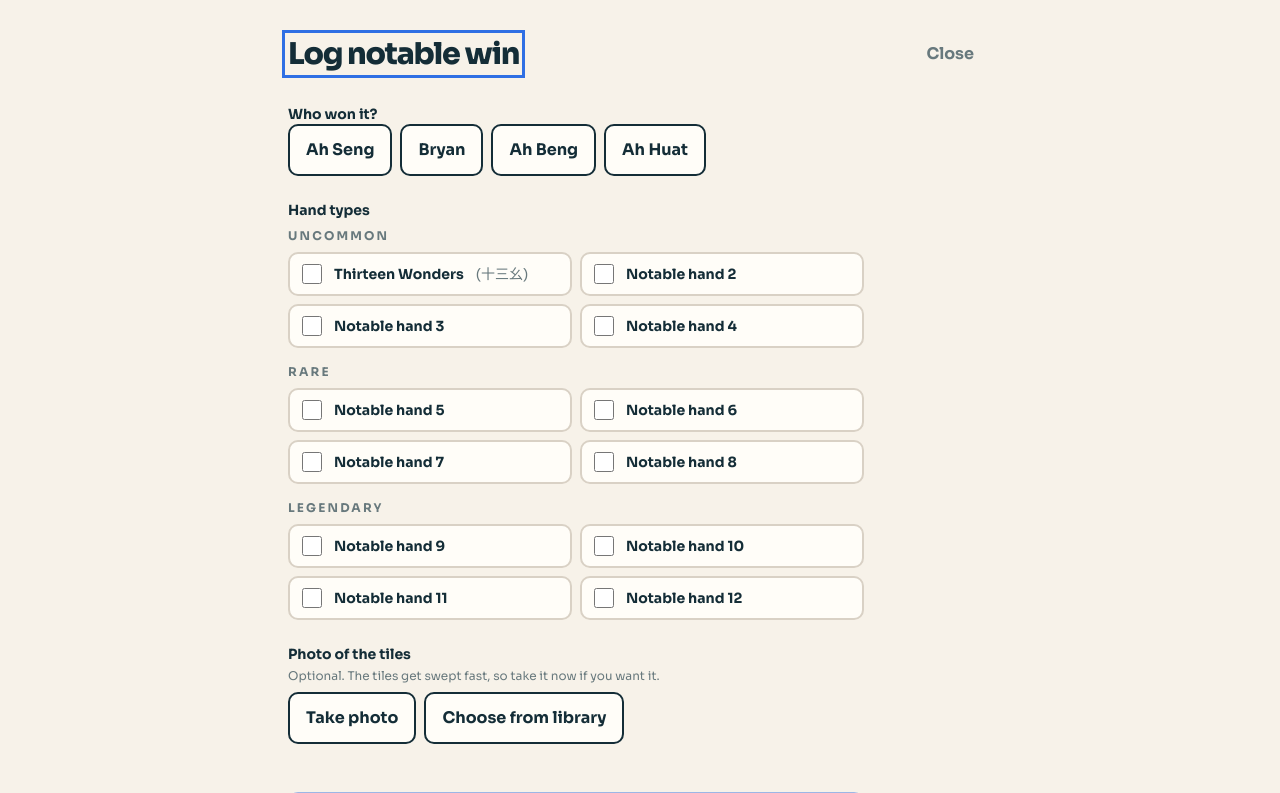
Test: NotableLogger › keeps the exact selected hand types and restores the action after a rejected request
Step 1. Click the button "Bryan" → click(442, 150), box [400, 124, 483, 176]
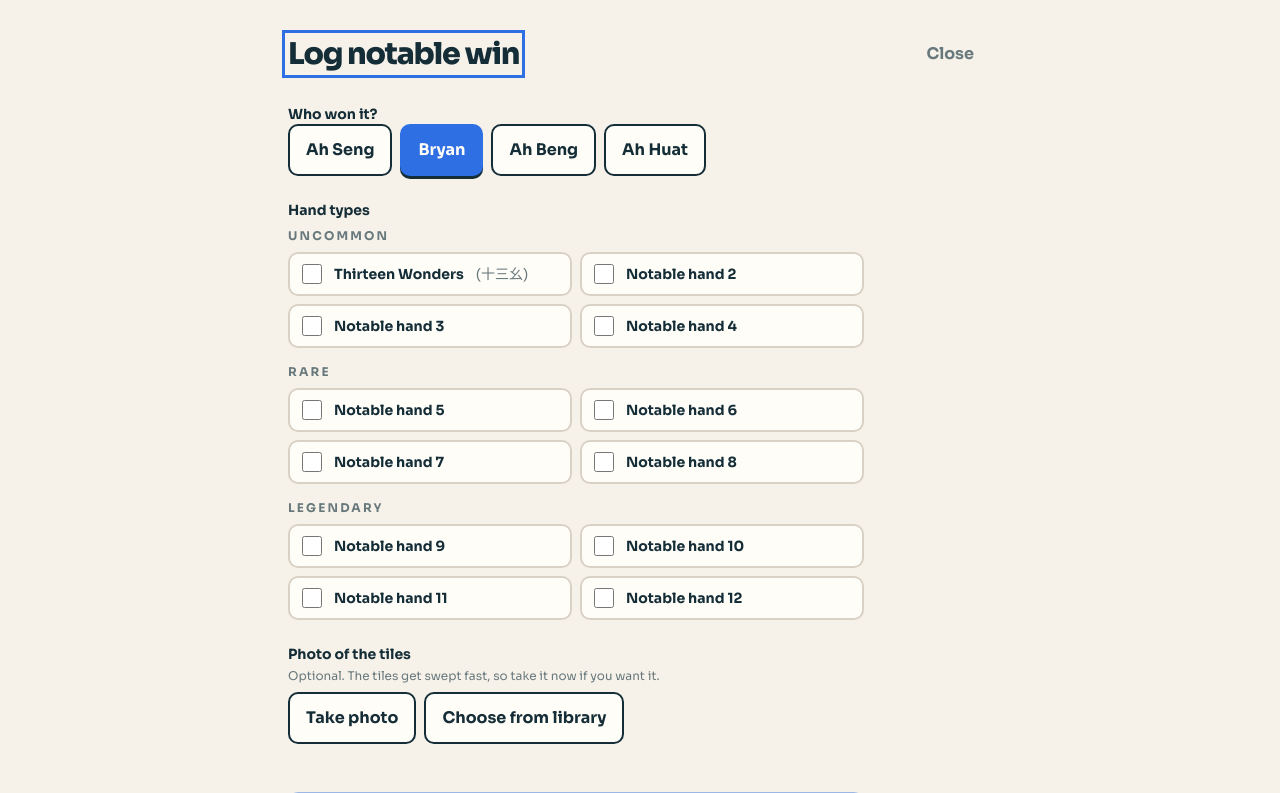
Step 2. Click the checkbox labelled "Thirteen Wonders" → click(312, 274), box [302, 264, 322, 284]
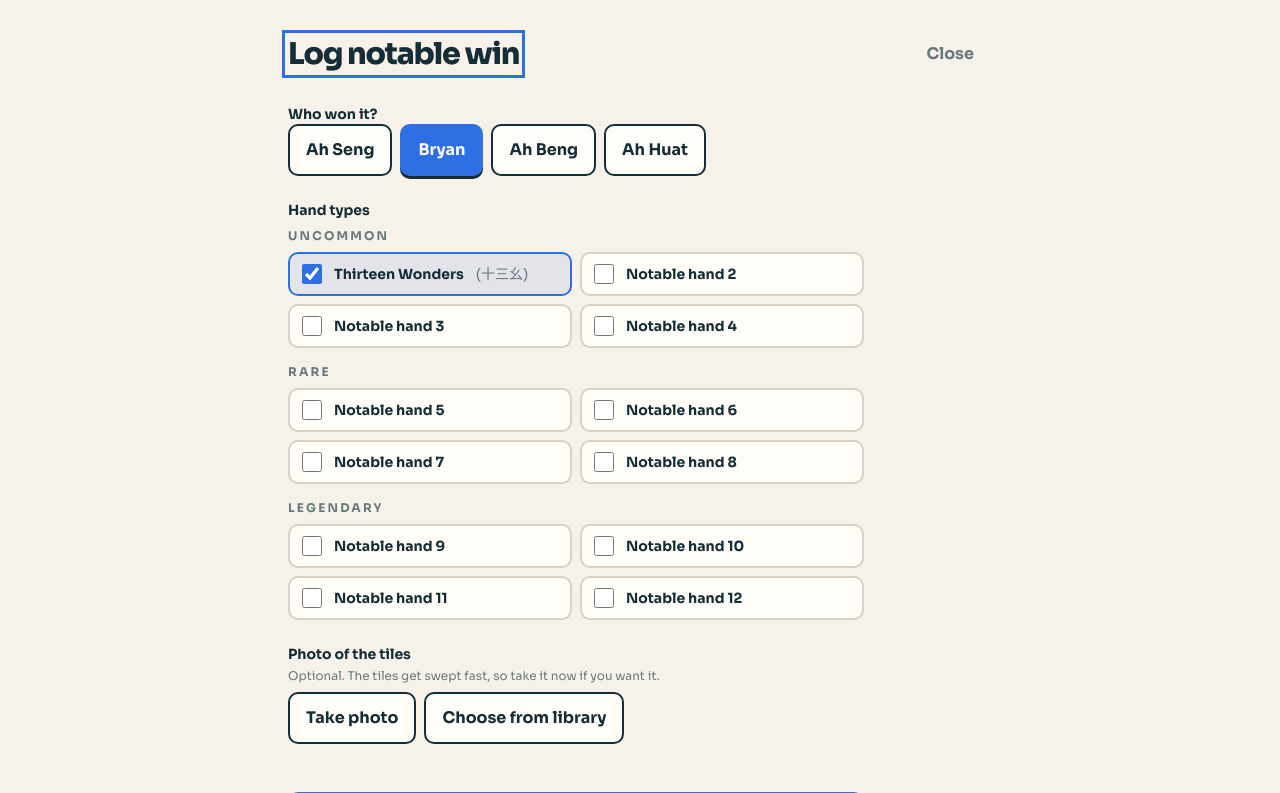
Step 3. Click the checkbox labelled "Notable hand 8" → click(604, 462), box [594, 452, 614, 472]
(page scrolled)
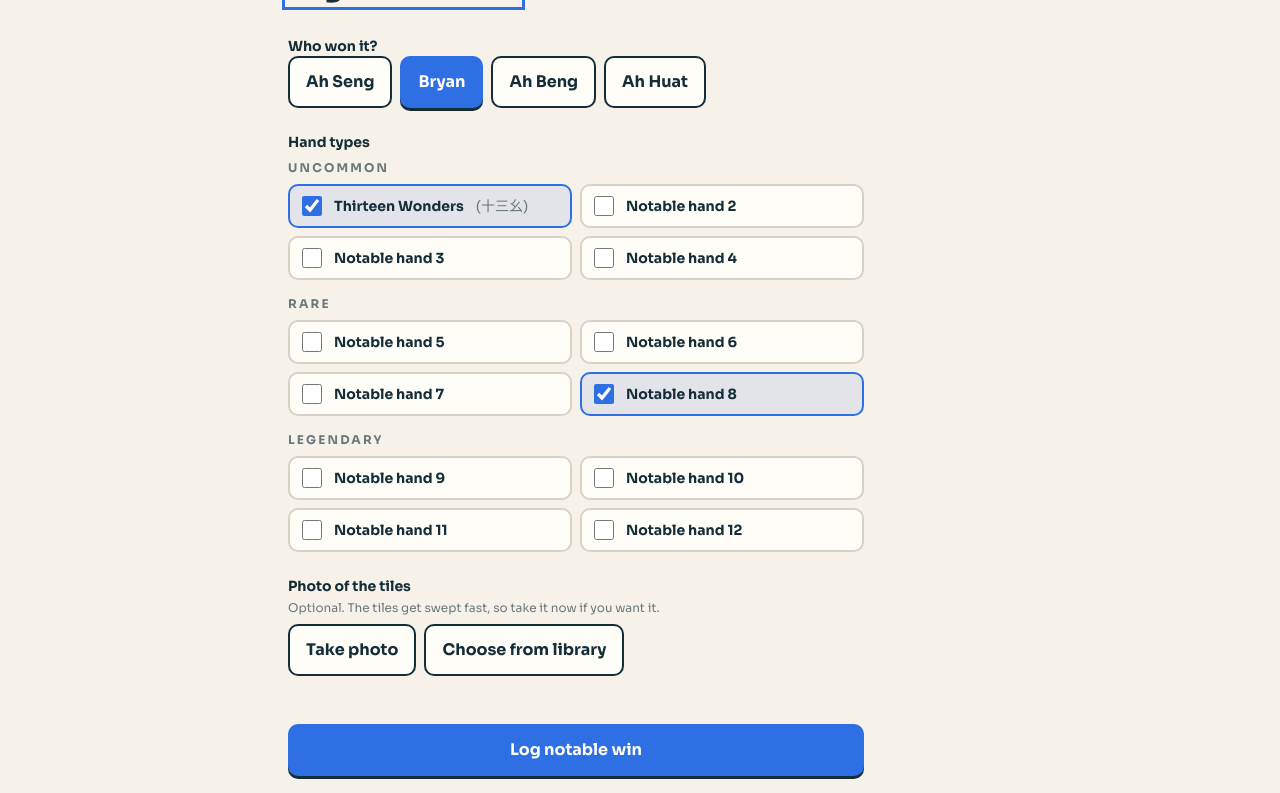
Step 4. Click the button "Log notable win" → click(576, 750), box [288, 724, 864, 776]
(page scrolled)
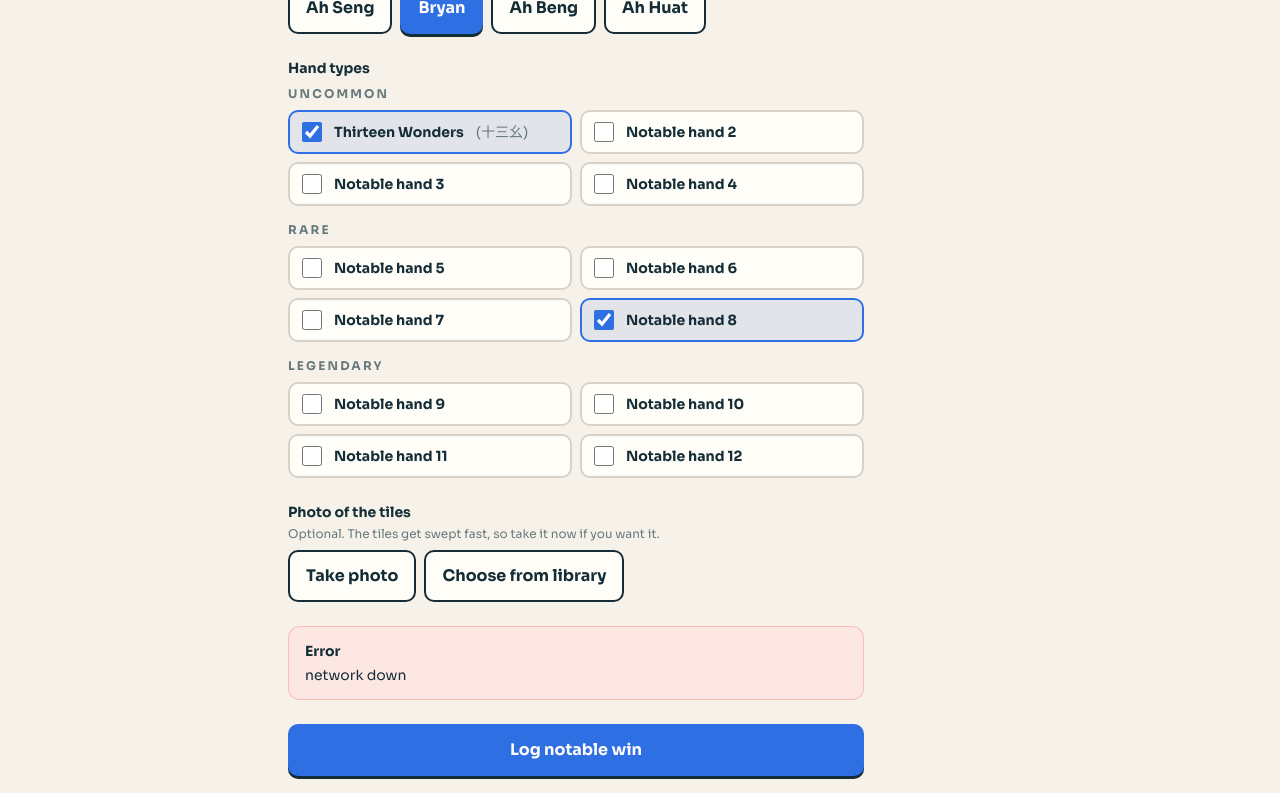
Expected: the checkbox labelled "Thirteen Wonders" is checked, [302, 122, 322, 142]
Expected: the checkbox labelled "Notable hand 8" is checked, [594, 310, 614, 330]
Expected: the message shows "network down", [305, 666, 406, 684]
